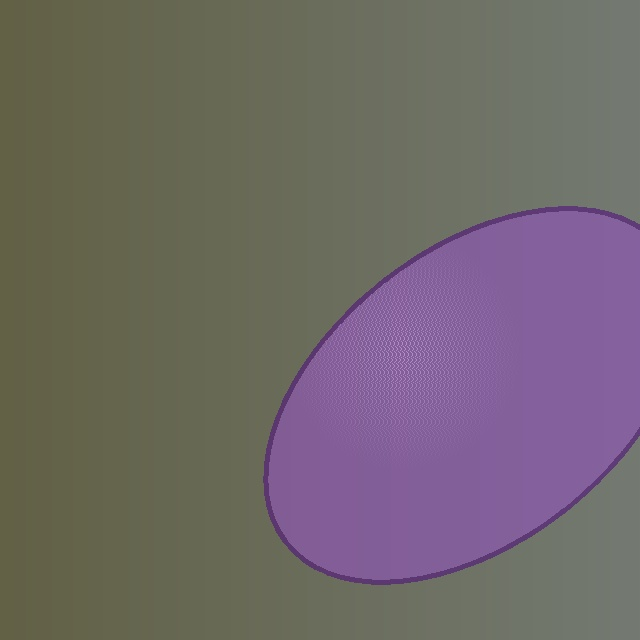lens: (266, 210, 640, 580)
